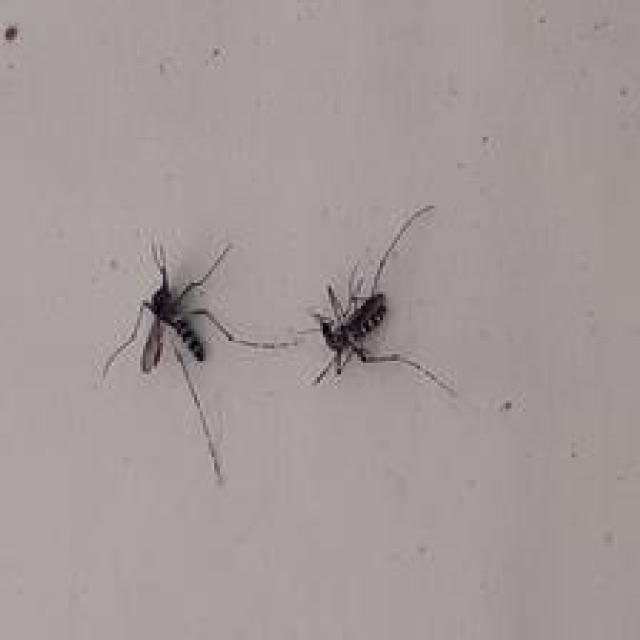Aedes albopictus: (100, 237, 294, 483)
